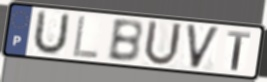B: (105, 19, 144, 65)
L: (70, 14, 100, 60)
T: (226, 29, 253, 73)
U: (141, 18, 184, 68), (30, 9, 72, 57)
V: (184, 22, 223, 71)
